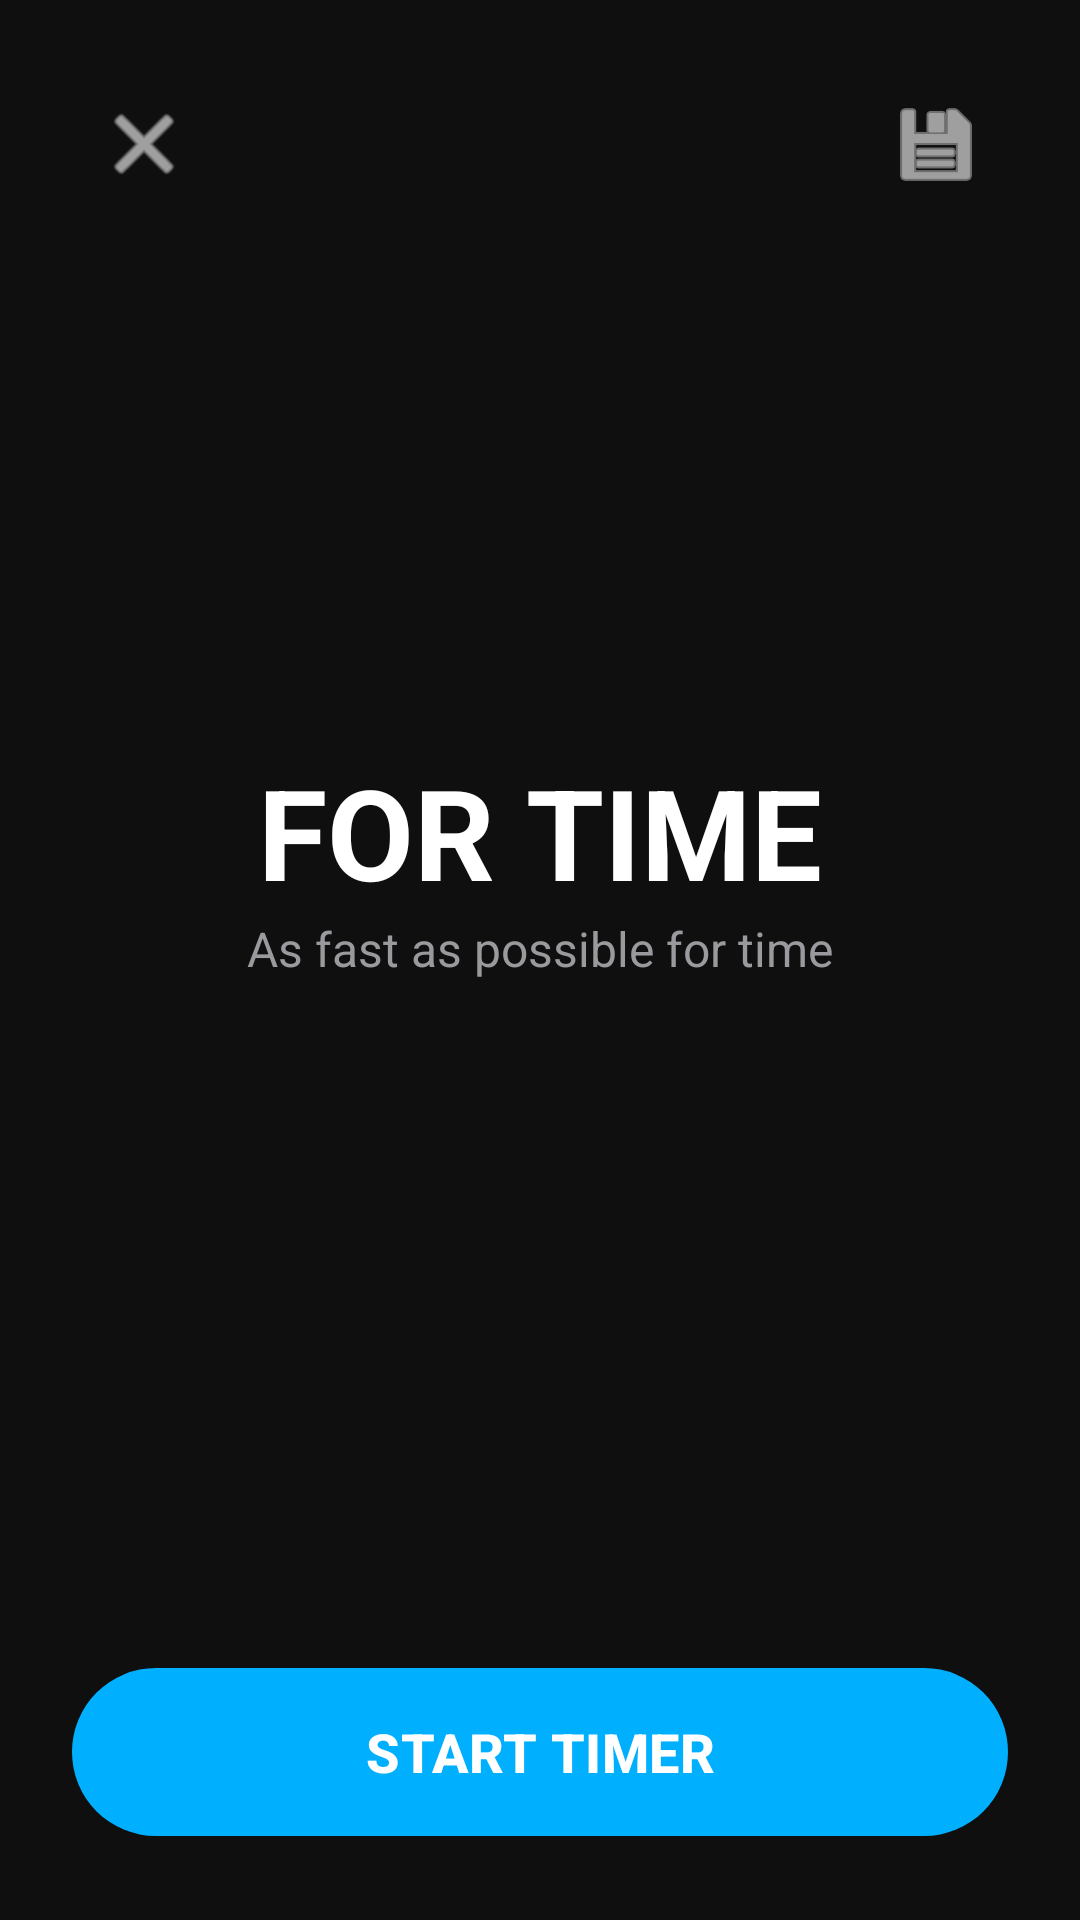

Locate icon controls on the screen. Image size 1080px×1920px, boxes as (x1, y1, x2, y2).
Save as preset: (900, 108, 972, 181)
